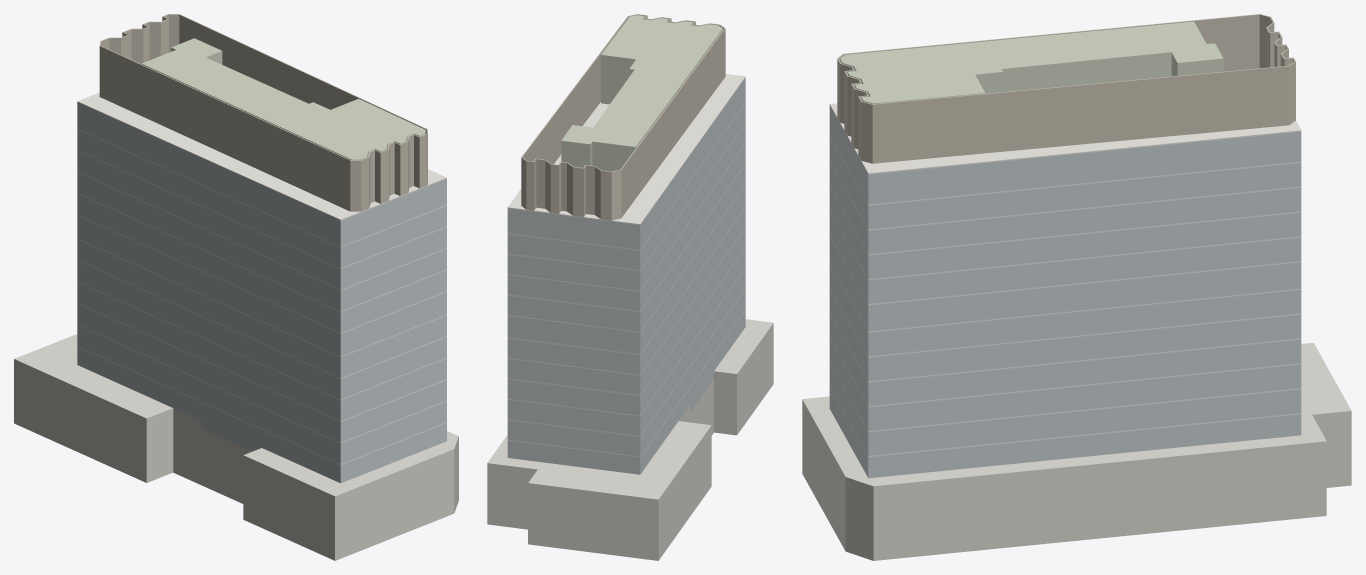
File: bough-beeches-2026-plan.glb
3 views of the same model, side by side, from view 1: azimuth 30°, elevation 25°; view 2: azimuth 150°, elevation 25°; view 3: azimuth 270°, elevation 25° (orthographic). The views are drawn at different scales.
Visible parts, largest first — view 1: Bough ground-floor podium, Bough open roof screen, Bough mechanical roof body, Bough residential level 13, Bough podium parapet envelope, Bough residential level 8, Bough residential level 12, Bough residential level 9, Bough residential level 5, Bough residential level 7, Bough residential level 11, Bough residential level 3 (+16 smaller); view 2: Bough ground-floor podium, Bough open roof screen, Bough mechanical roof body, Bough podium parapet envelope, Bough residential level 13, Bough residential level 8, Bough residential level 3, Bough residential level 9, Bough residential level 7, Bough residential level 10, Bough residential level 4, Bough residential level 6 (+16 smaller); view 3: Bough ground-floor podium, Bough open roof screen, Bough mechanical roof body, Bough residential level 13, Bough podium parapet envelope, Bough residential level 8, Bough residential level 10, Bough residential level 3, Bough residential level 11, Bough residential level 12, Bough residential level 5, Bough residential level 7 (+16 smaller).
Boxes of the visible parts, x1,y1,x2,y2 form: Bough ground-floor podium: (14, 367, 458, 560); Bough open roof screen: (99, 14, 427, 211); Bough mechanical roof body: (141, 38, 425, 159); Bough residential level 13: (77, 102, 446, 246); Bough podium parapet envelope: (14, 334, 458, 504); Bough residential level 8: (77, 215, 446, 356); Bough residential level 12: (77, 129, 446, 267); Bough residential level 9: (77, 194, 446, 332); Bough residential level 5: (77, 282, 446, 420); Bough residential level 7: (77, 239, 446, 377); Bough residential level 11: (77, 151, 446, 289); Bough residential level 3: (77, 325, 446, 463); Bough ground-floor podium: (487, 331, 773, 560); Bough open roof screen: (521, 14, 725, 220); Bough mechanical roof body: (561, 15, 722, 171); Bough podium parapet envelope: (487, 319, 773, 507); Bough residential level 13: (507, 78, 745, 249); Bough residential level 8: (507, 185, 745, 353); Bough residential level 3: (507, 289, 745, 456); Bough residential level 9: (507, 165, 745, 331); Bough residential level 7: (507, 208, 745, 374); Bough residential level 10: (507, 144, 745, 310); Bough residential level 4: (507, 269, 745, 435); Bough residential level 6: (507, 228, 745, 394); Bough ground-floor podium: (802, 409, 1351, 560); Bough open roof screen: (837, 14, 1295, 163); Bough mechanical roof body: (840, 21, 1223, 103); Bough residential level 13: (829, 105, 1301, 204); Bough podium parapet envelope: (802, 342, 1351, 495); Bough residential level 8: (829, 236, 1301, 331); Bough residential level 10: (829, 186, 1301, 279); Bough residential level 3: (829, 363, 1301, 455); Bough residential level 11: (829, 161, 1301, 254); Bough residential level 12: (829, 137, 1301, 229); Bough residential level 5: (829, 313, 1301, 406); Bough residential level 7: (829, 264, 1301, 356).
Size of the model in its own units: 36.51 by 52 by 59.03.
